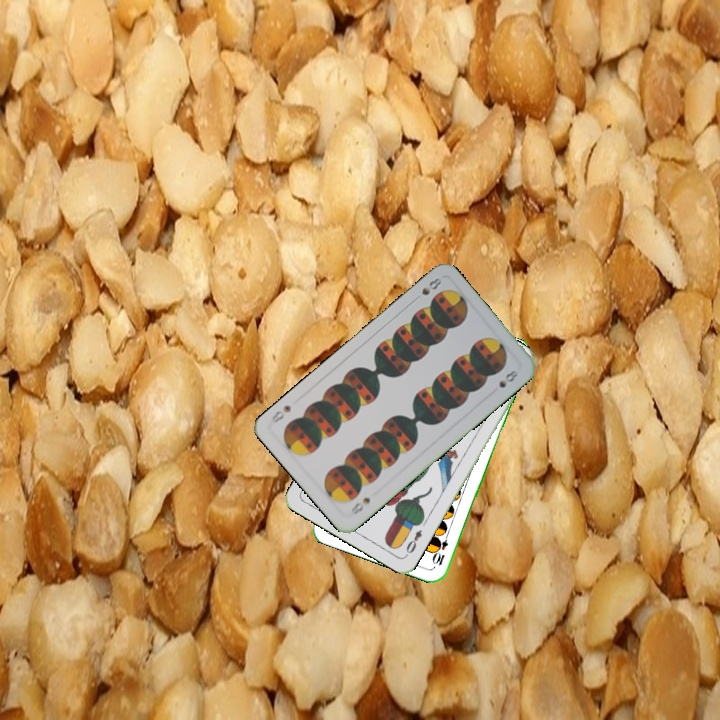E10: (428, 528, 451, 568)
EO: (402, 525, 425, 556)
S8: (418, 272, 444, 298), (347, 493, 373, 518)
